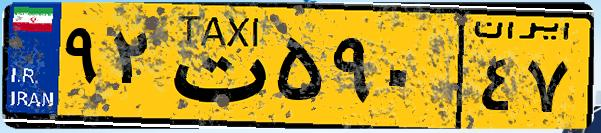0: (385, 28, 445, 110)
2: (110, 28, 158, 98)
4: (475, 38, 525, 113)
5: (270, 28, 330, 110)
7: (525, 38, 570, 115)
9: (330, 28, 385, 110), (57, 26, 110, 100)
ت: (158, 12, 270, 120)
